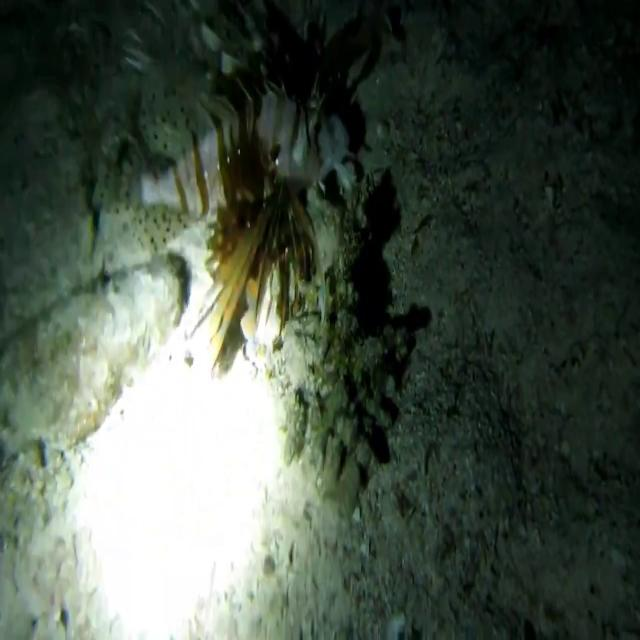Aslan Baligi: (58, 4, 390, 361)
